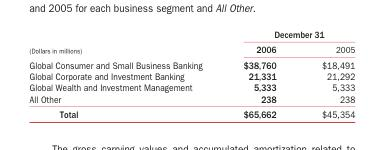table: (28, 28, 354, 119)
table column: (28, 28, 222, 119), (222, 28, 298, 119), (298, 28, 354, 119)
table column header: (28, 28, 354, 56)
table row: (28, 41, 354, 56), (28, 56, 354, 70), (28, 92, 354, 106), (28, 28, 354, 41), (28, 106, 354, 119), (28, 70, 354, 81), (28, 81, 354, 92)
table spanning cell: (28, 28, 222, 56), (222, 28, 354, 41)
